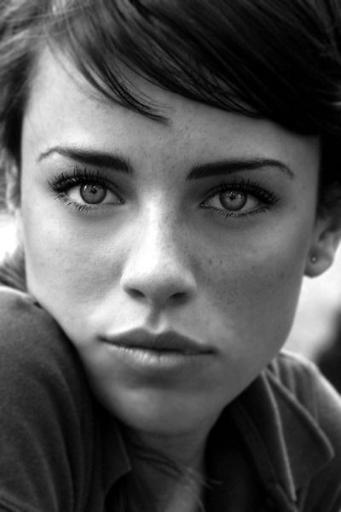left_eye: (197, 182, 273, 223)
left_lip_corner: (198, 339, 222, 369)
right_eye: (47, 174, 126, 217)
right_lip_corner: (95, 325, 120, 358)
